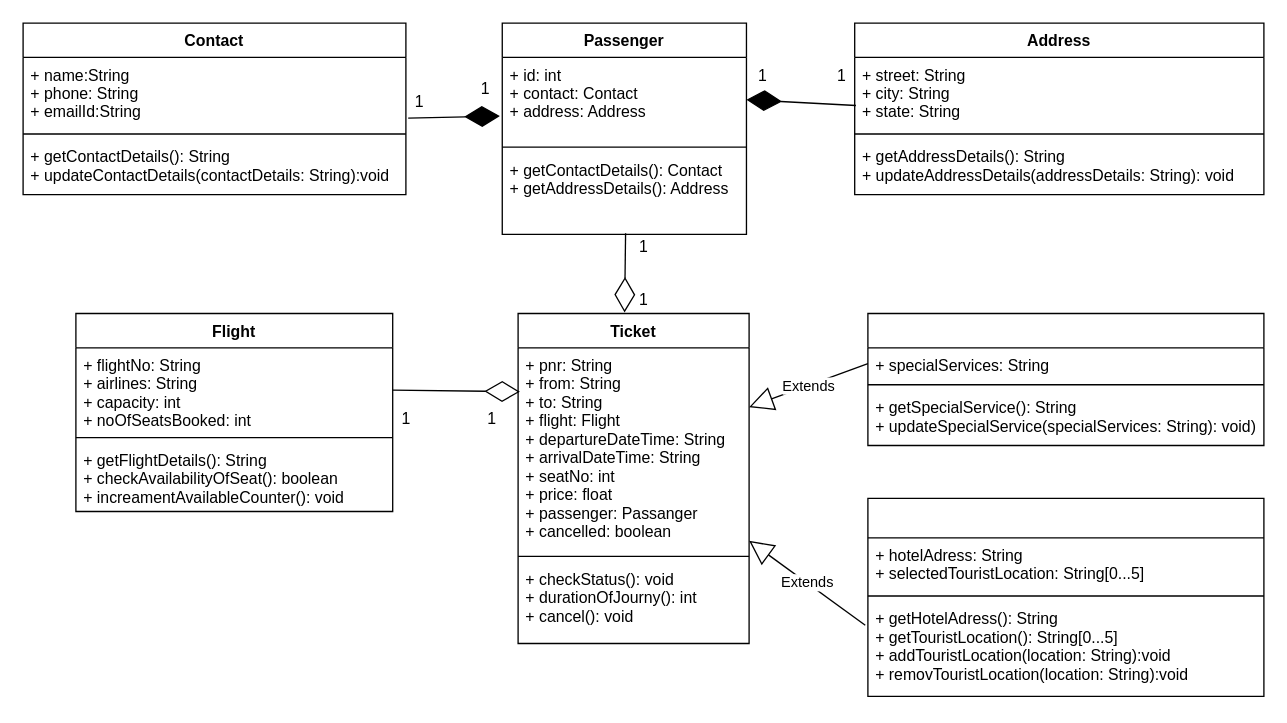
Image size: 1287x723. Some labels were removed from this diagram. Each missing label, with the box of its shape:
RegulatTicket: (867, 312, 1264, 446)
TouristTIcket: (867, 497, 1264, 696)
